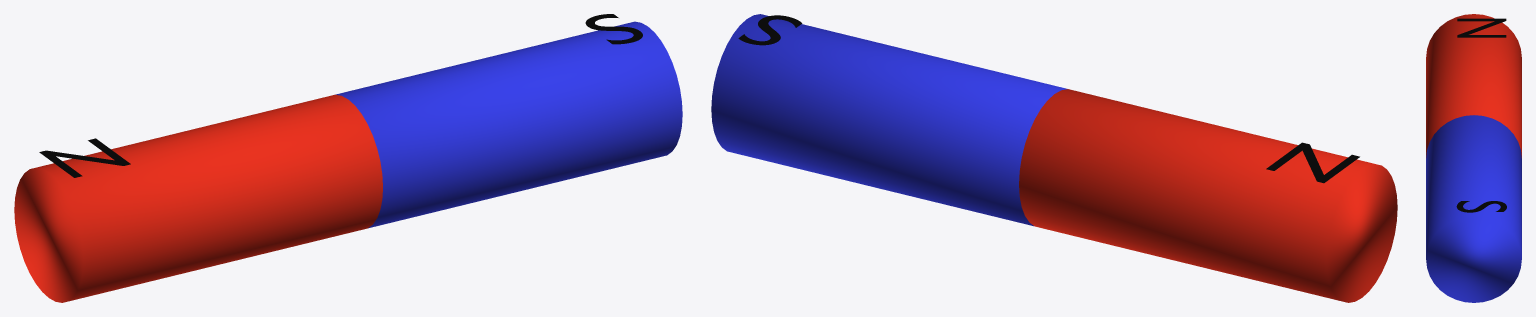
Rendered from exp2 iman.glb.
The picture shows the model from 3 angles, left to right: view 1: azimuth 30°, elevation 25°; view 2: azimuth 150°, elevation 25°; view 3: azimuth 270°, elevation 25°; orthographic projection. The views are drawn at different scales.
Visible parts, largest first — view 1: Cylinder.001, Cylinder, Text.001, Text.009; view 2: Cylinder.001, Cylinder, Text.001, Text.009; view 3: Cylinder, Cylinder.001, Text.001, Text.009.
Part boxes in pixels (x1=…): Cylinder.001: x1=14, y1=94, x2=382, y2=302; Cylinder: x1=336, y1=21, x2=682, y2=228; Text.001: x1=39, y1=138, x2=130, y2=177; Text.009: x1=585, y1=14, x2=642, y2=44; Cylinder.001: x1=1019, y1=89, x2=1397, y2=302; Cylinder: x1=711, y1=14, x2=1067, y2=226; Text.001: x1=1266, y1=142, x2=1359, y2=183; Text.009: x1=738, y1=15, x2=802, y2=45; Cylinder: x1=1426, y1=115, x2=1521, y2=302; Cylinder.001: x1=1426, y1=14, x2=1521, y2=157; Text.001: x1=1457, y1=18, x2=1506, y2=37; Text.009: x1=1456, y1=201, x2=1506, y2=212.
Size of the model in its own units: 10 by 2 by 2.
